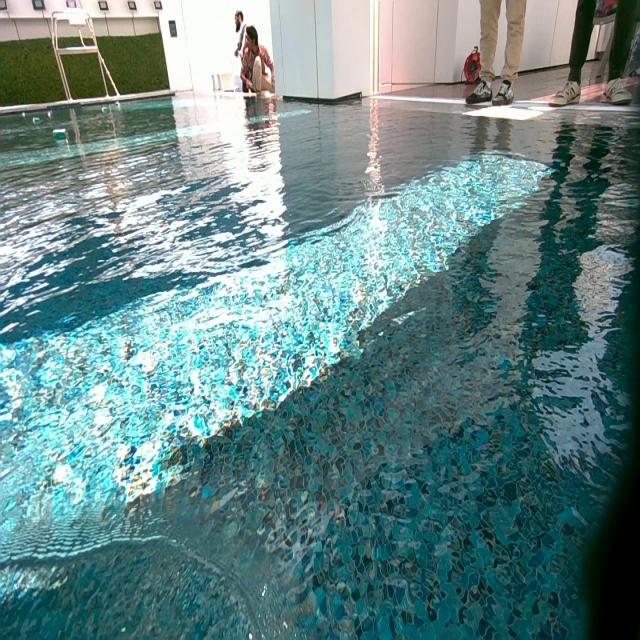Cans: (54, 130, 68, 142), (32, 118, 42, 126), (45, 110, 52, 117), (102, 104, 106, 113), (115, 102, 121, 108), (22, 113, 27, 117)
